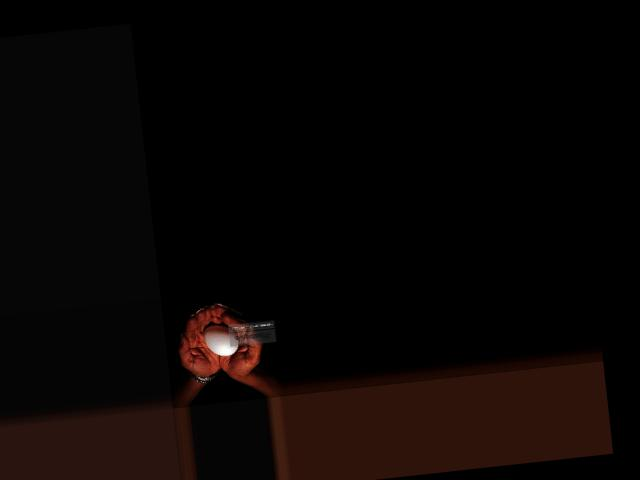egg: (202, 321, 239, 358)
